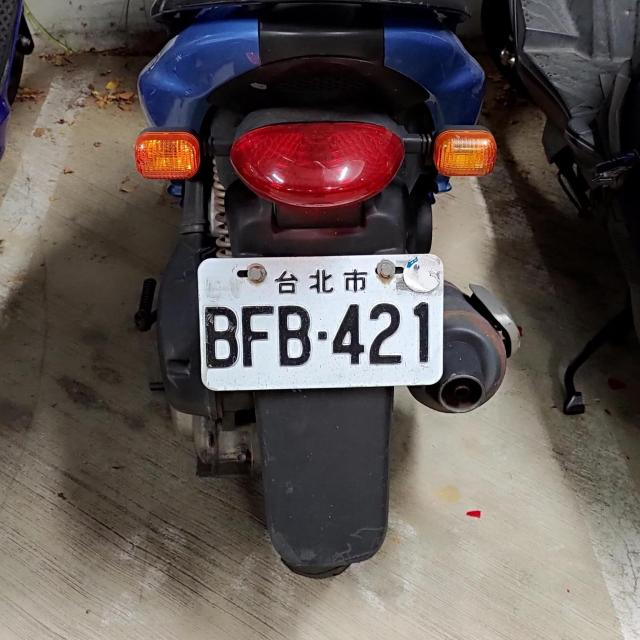W: (196, 251, 441, 387)
